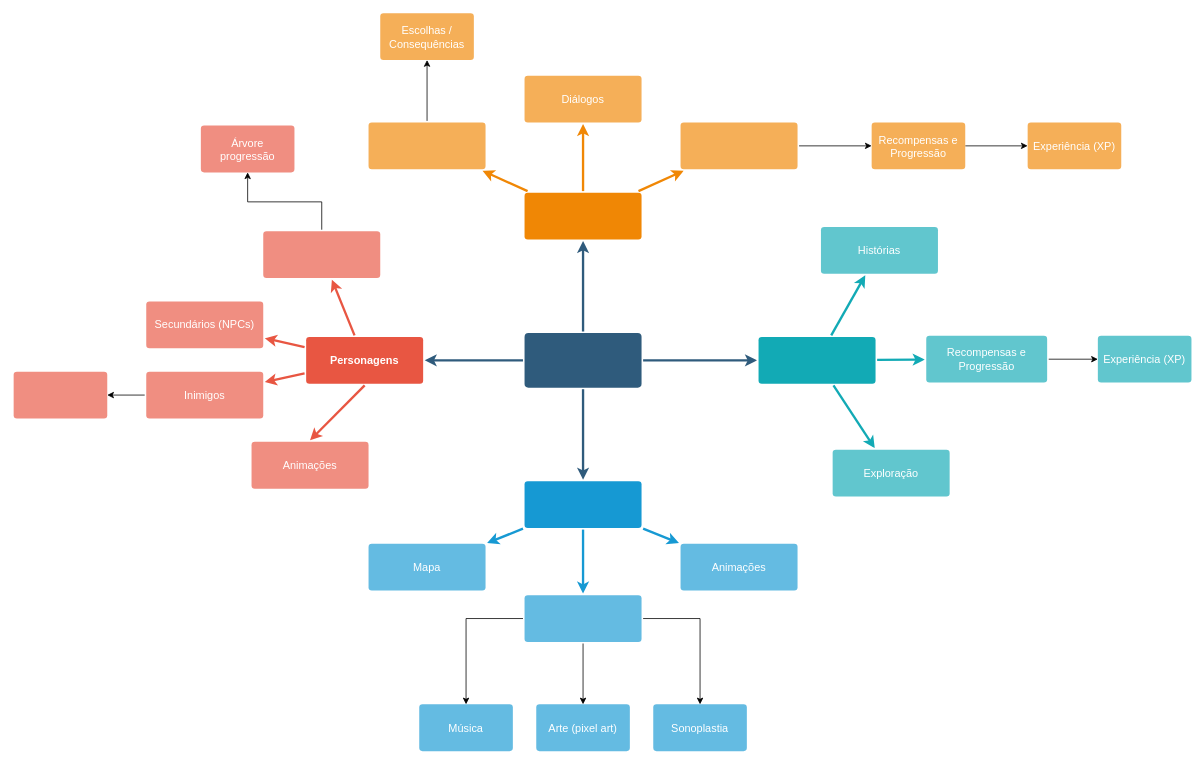
This 1204x764 diagram has some shape labels left out. Here are the shapes that lost their labels. From the top down, the centre of each, then its label:
(426,145): Enredo
(738,145): Missões
(582,215): História
(321,254): Principal (protagonista)
(582,360): Jogo RPG
(816,360): Missões secundárias
(60,394): Combates
(582,504): Cenários
(582,618): Atmosfera
